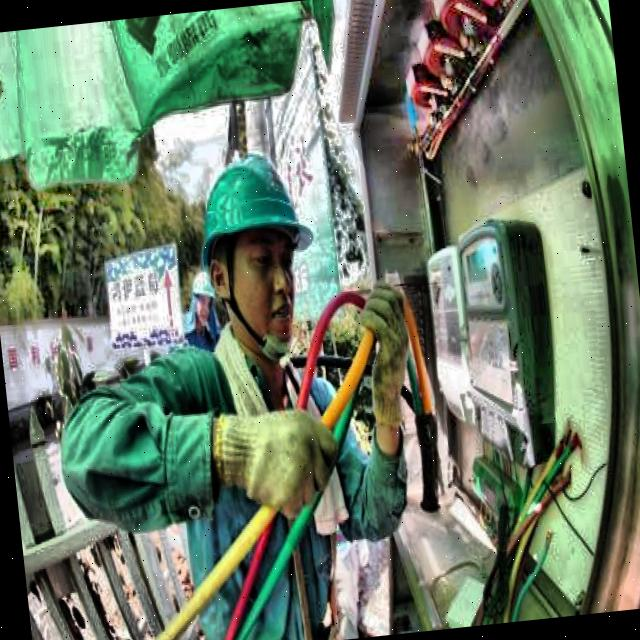helmet: (184, 125, 330, 362)
